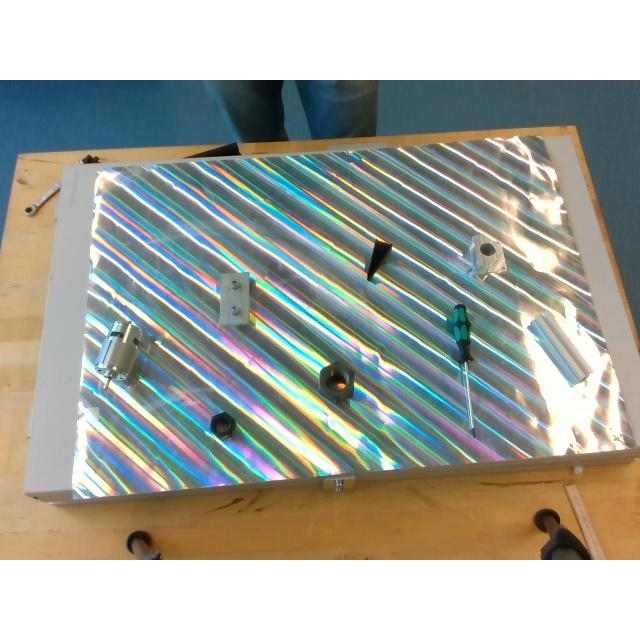F20_20_G: (531, 310, 595, 384)
M20: (210, 411, 234, 437)
M30: (318, 364, 354, 401)
Motor2: (96, 318, 140, 386)
Screwdriver: (452, 302, 481, 438)
